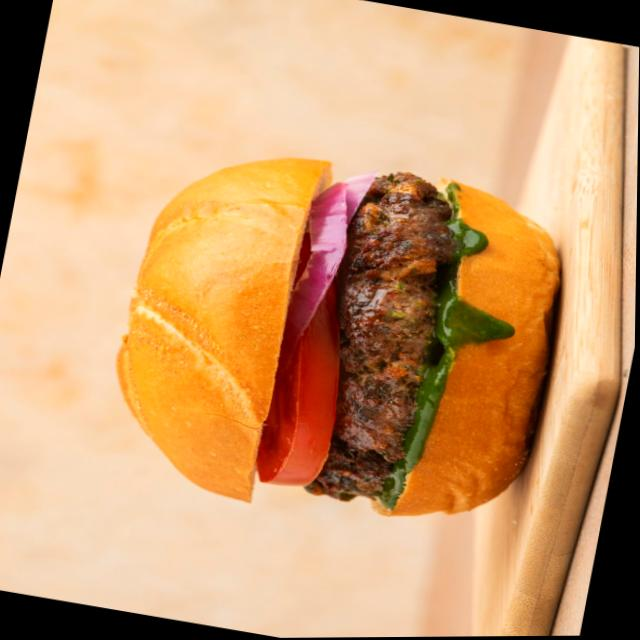burger: (98, 129, 578, 550)
